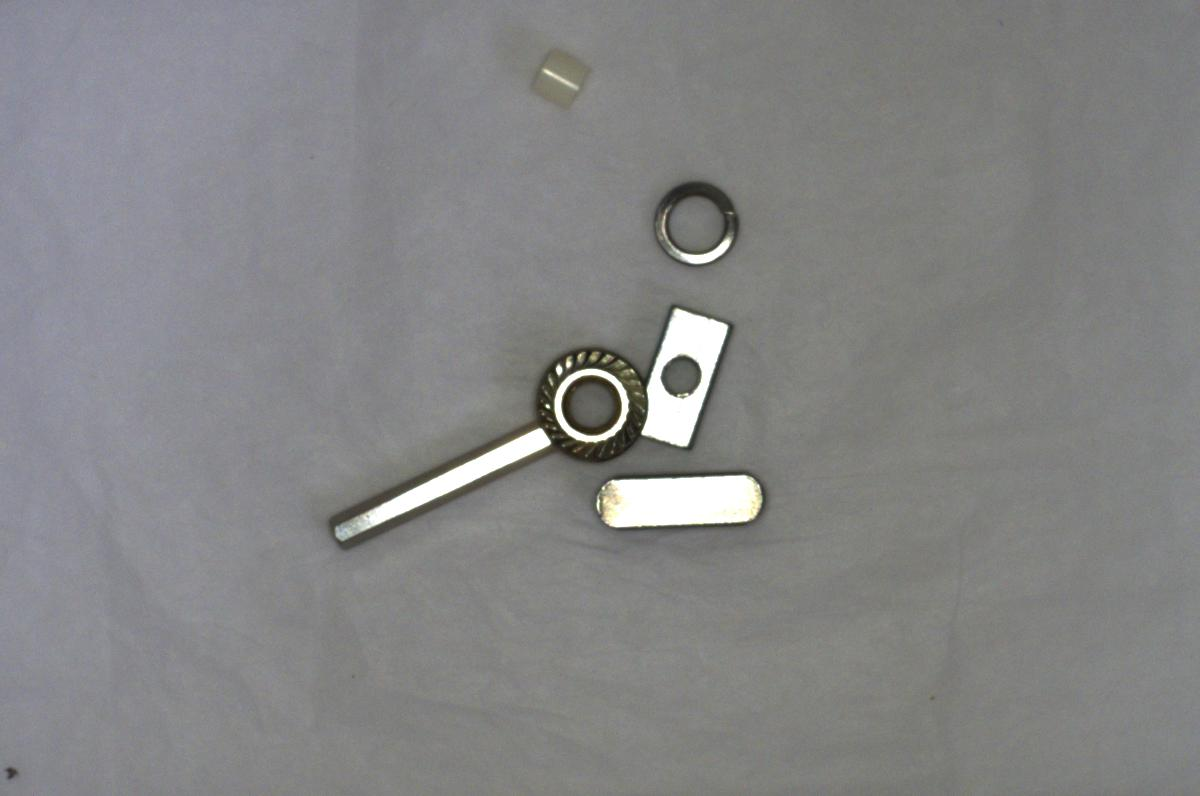Flange nut: (533, 336, 653, 466)
Keybar: (586, 463, 779, 540)
Plastic cushion pillar: (517, 45, 592, 109)
Rectangular nut: (630, 300, 735, 458)
Spring washer: (325, 421, 548, 553), (652, 173, 745, 272)
